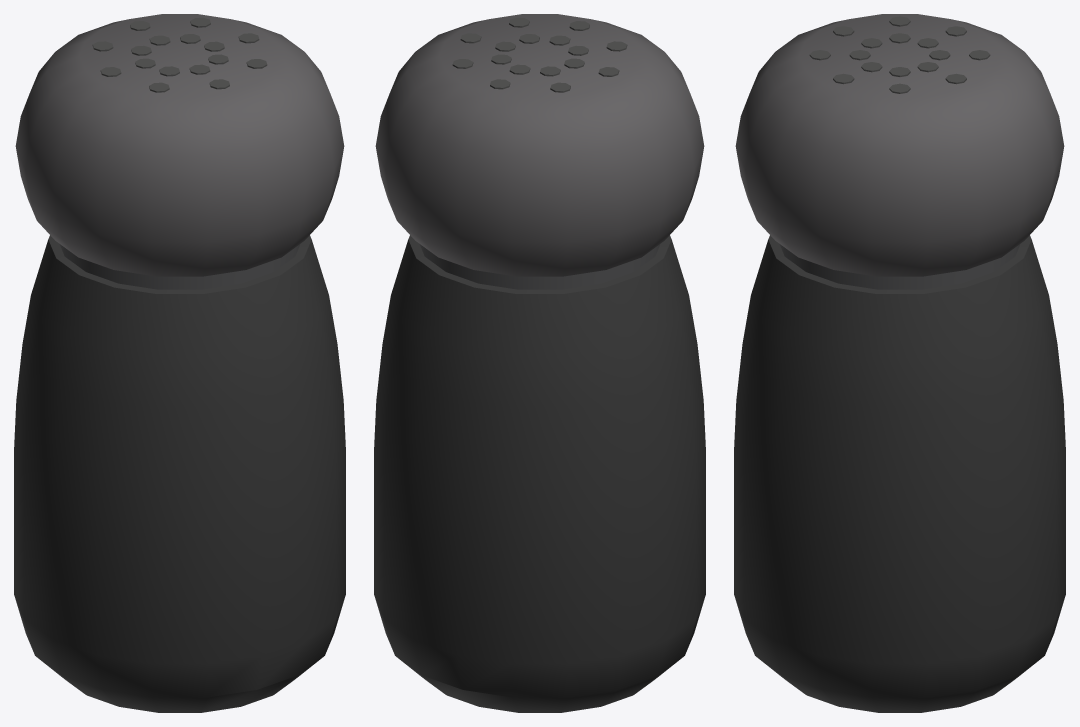
The model's file is GlitterJar.fbx.
3 renders of one model, left to right at view 1: azimuth 30°, elevation 25°; view 2: azimuth 150°, elevation 25°; view 3: azimuth 270°, elevation 25°, orthographic.
Parts seen in each view (by area): view 1: Body, Lid; view 2: Body, Lid; view 3: Body, Lid.
Part boxes in pixels (bbox=[...]): Body: bbox=[14, 235, 345, 712]; Lid: bbox=[15, 14, 344, 289]; Body: bbox=[374, 235, 705, 712]; Lid: bbox=[375, 14, 704, 289]; Body: bbox=[734, 235, 1065, 712]; Lid: bbox=[735, 14, 1064, 289].
Bounding box in the file's own units: 197 × 411 × 200.
